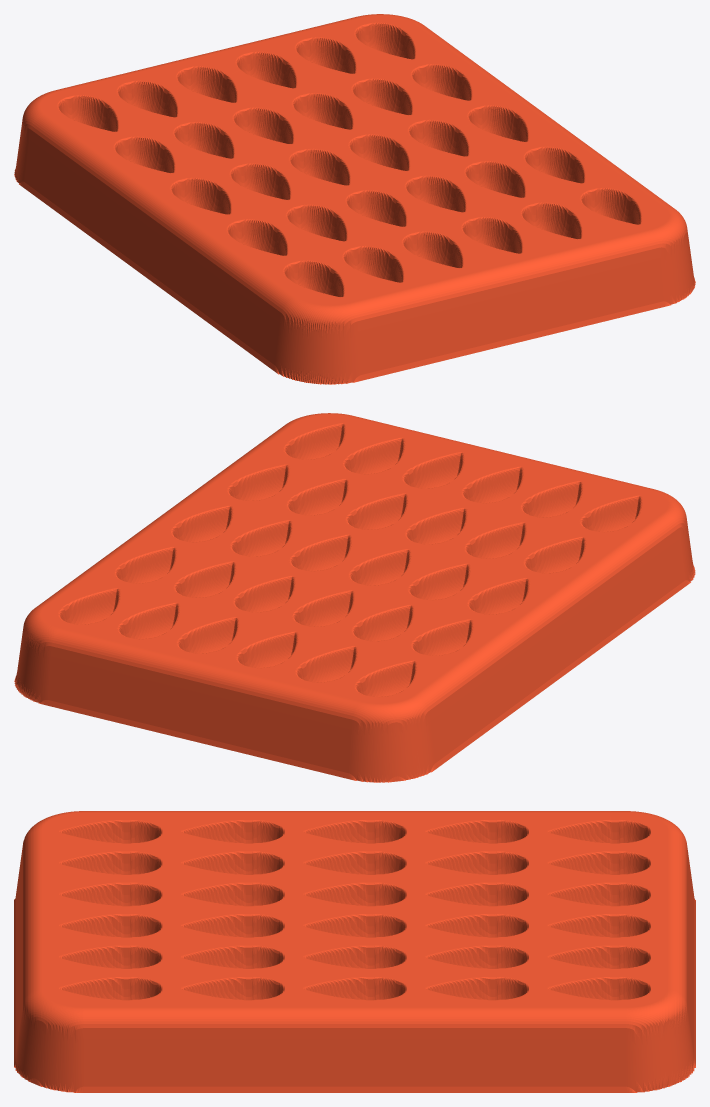
Rendered from mold.glb.
3 renders of one model, top to bottom at view 1: azimuth 30°, elevation 25°; view 2: azimuth 150°, elevation 25°; view 3: azimuth 270°, elevation 25°, orthographic. The views are drawn at different scales.
Visible parts, largest first — view 1: geometry_0; view 2: geometry_0; view 3: geometry_0.
Part boxes in pixels (bbox=[...]): geometry_0: bbox=[14, 14, 695, 384]; geometry_0: bbox=[14, 413, 695, 782]; geometry_0: bbox=[14, 811, 695, 1092].
Bounding box in the file's own units: 0.0668 × 0.0105 × 0.0882.
